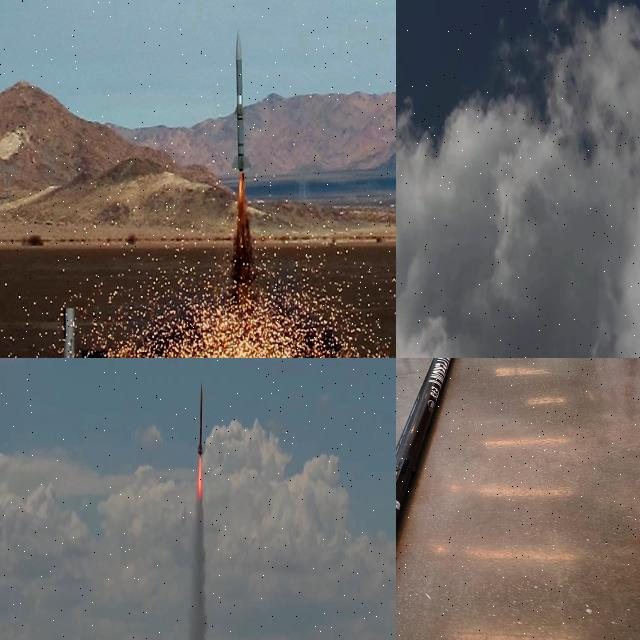Rocket: (396, 358, 452, 522), (231, 30, 251, 172), (198, 383, 203, 459)
